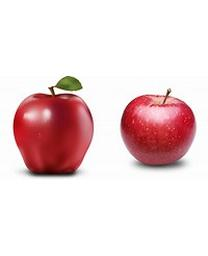apple: (13, 76, 95, 175), (119, 88, 196, 165)
